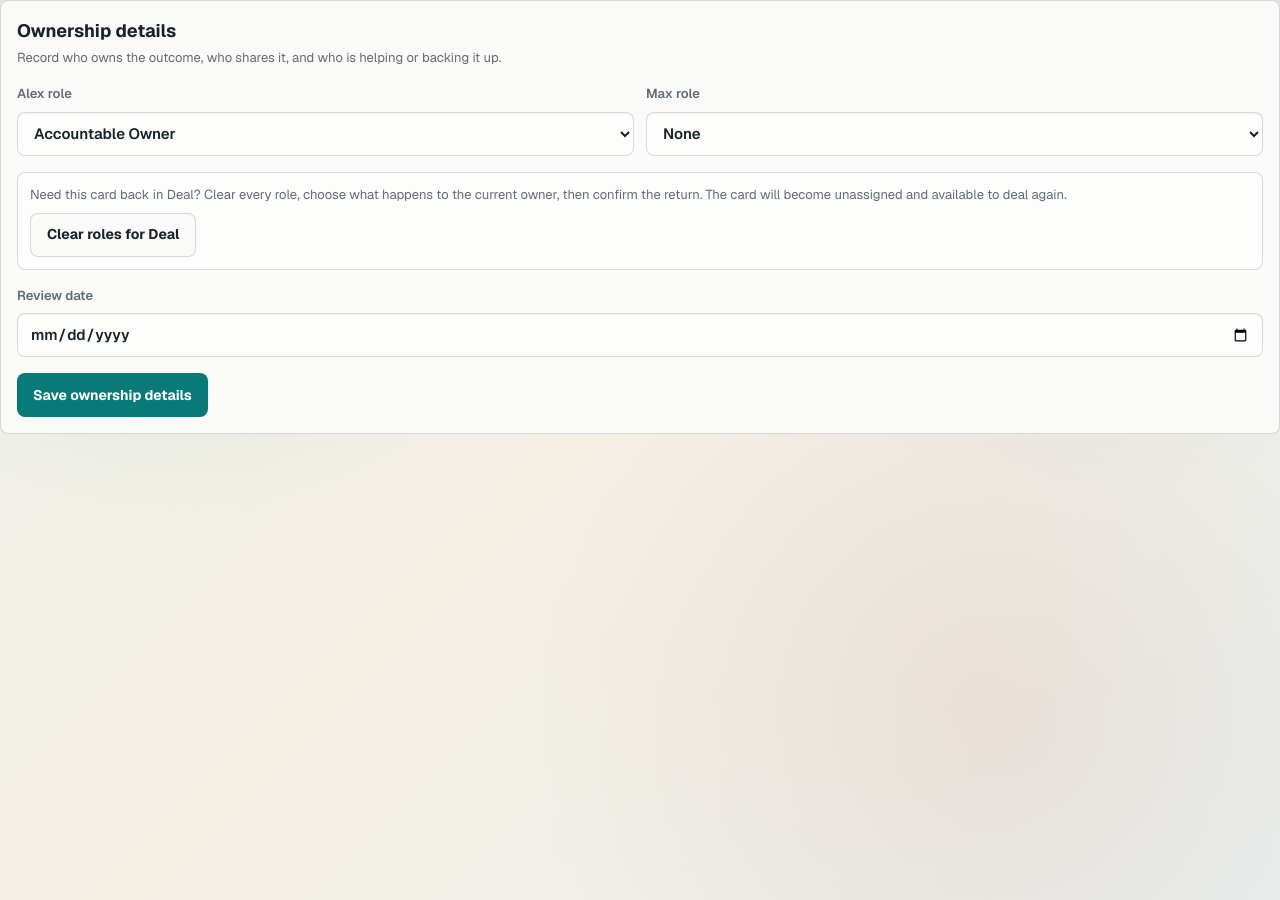
Test case: OwnershipDetails › submits a retain-as-helper handoff with review timing
Select "None" in the dropdown labelled "Alex role" at (326, 134), box [17,112,634,156]
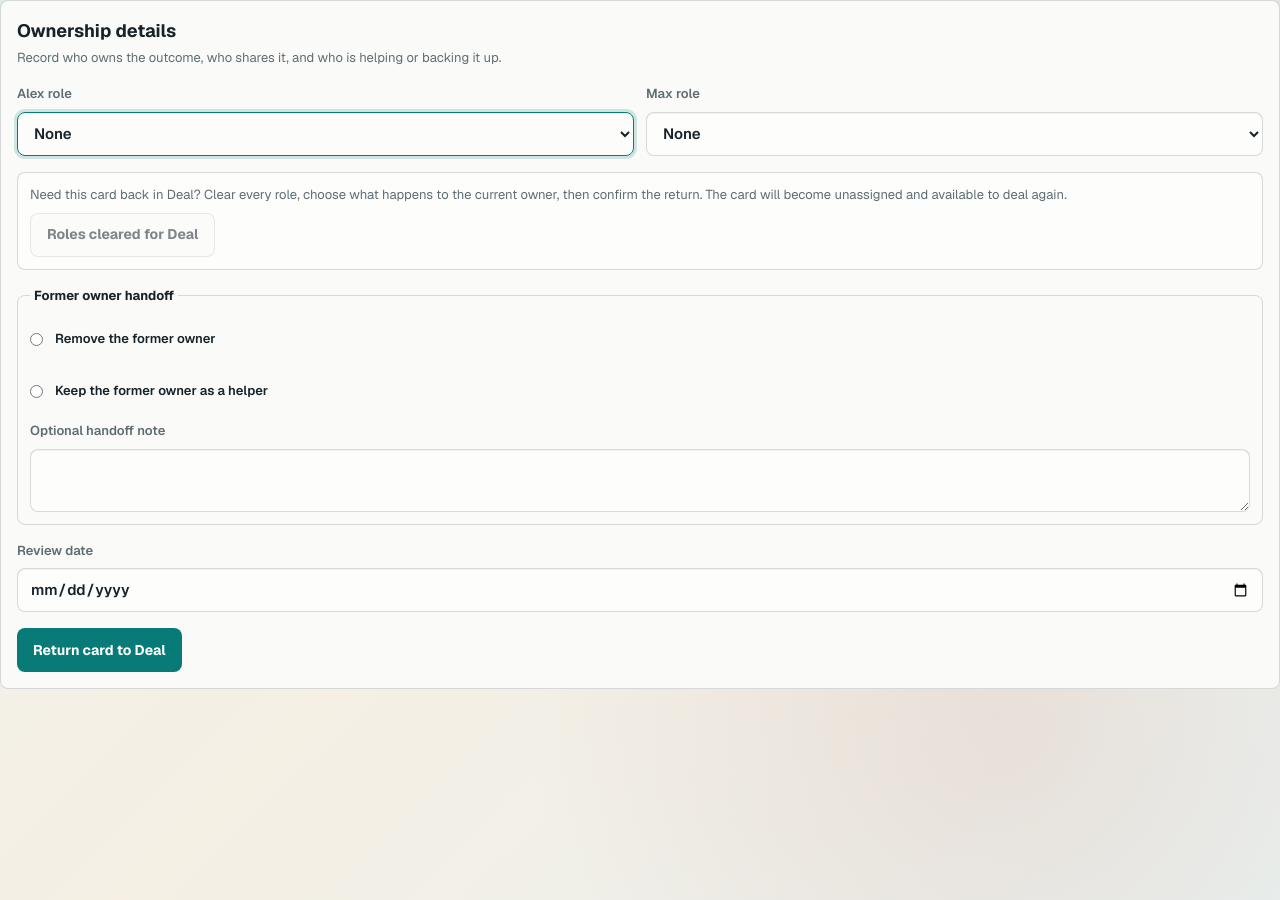
Select "Accountable Owner" in the dropdown labelled "Max role" at (954, 134), box [646,112,1263,156]
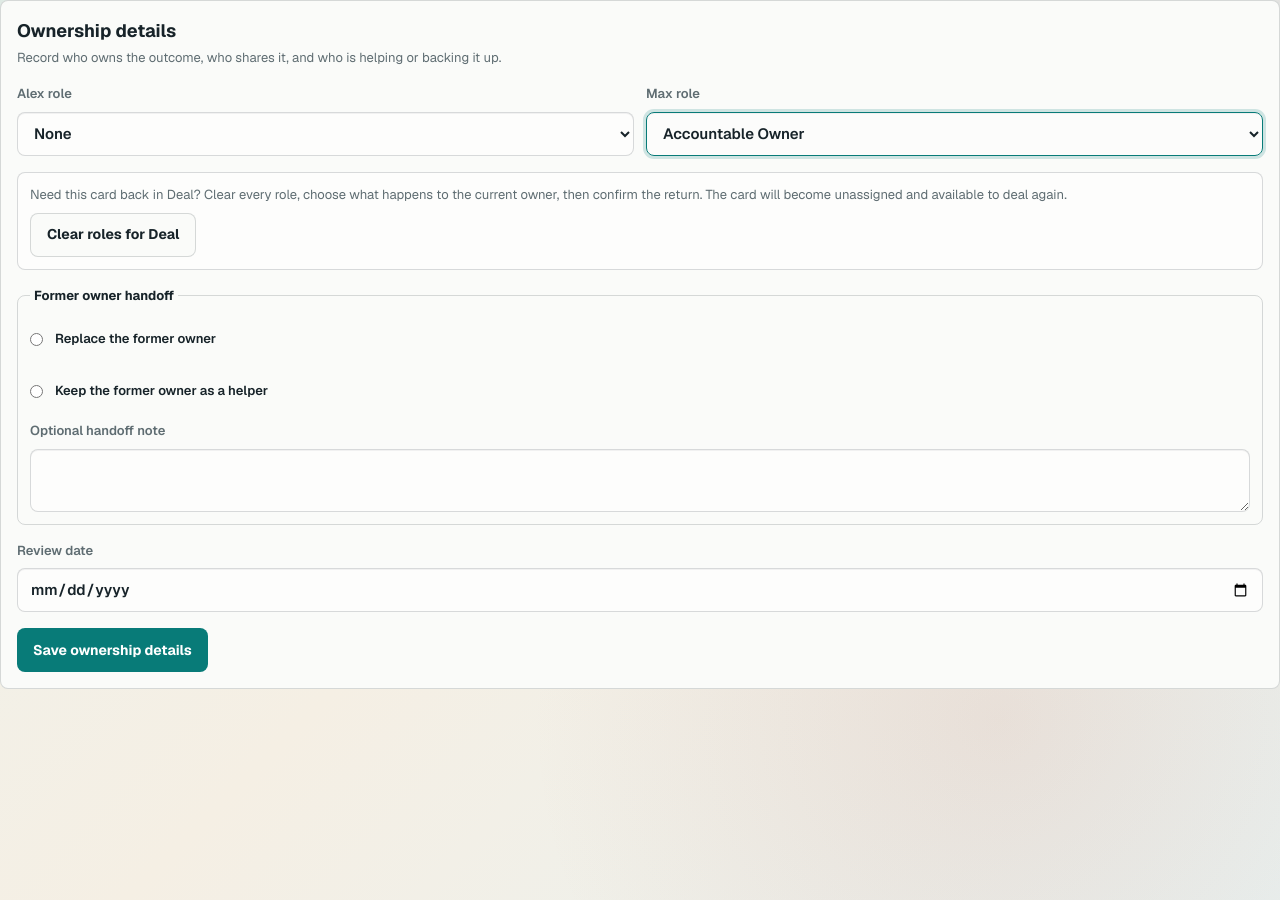
Click the radio button labelled "Keep the former owner as a helper" at (36, 391), box [30,384,43,398]
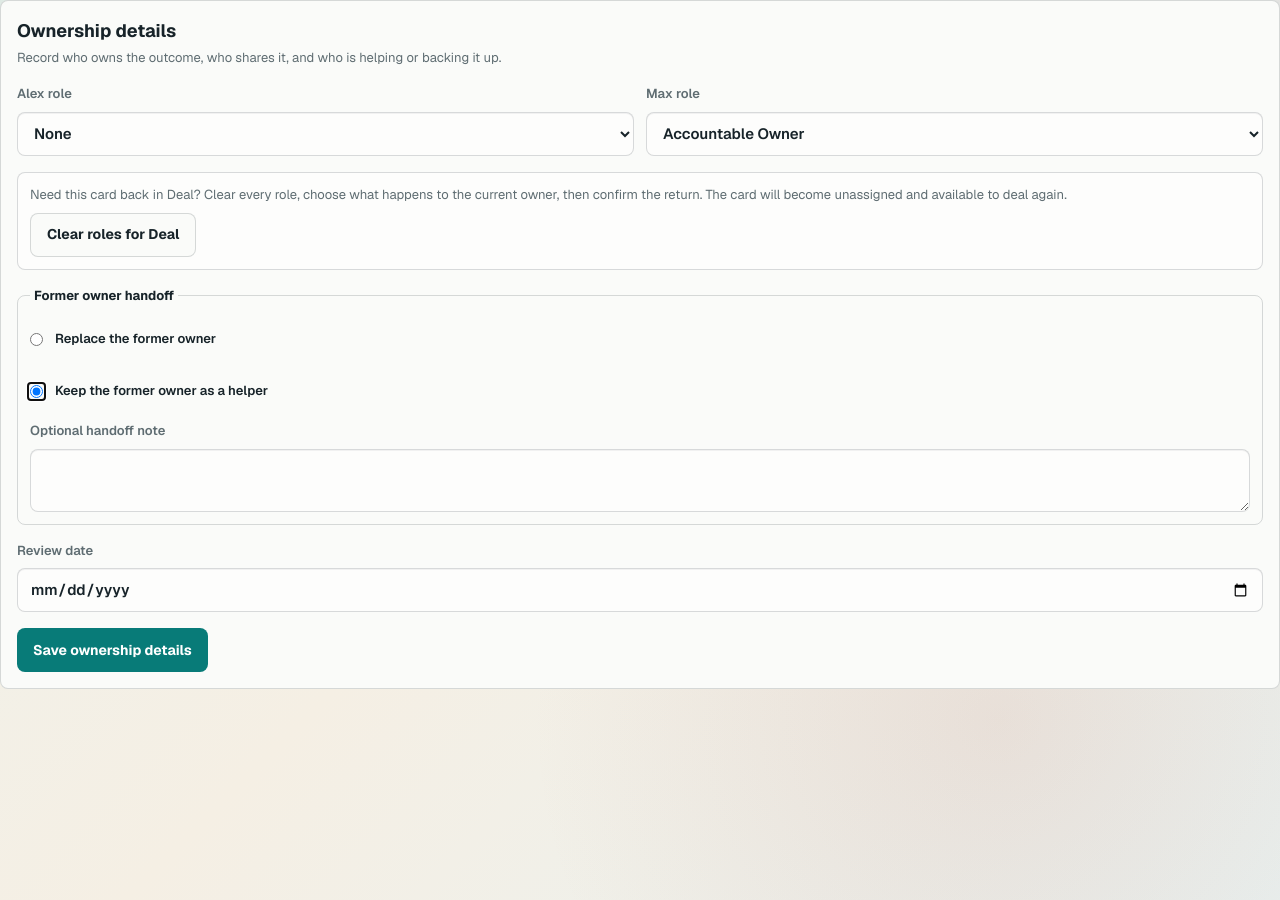
Type "Walk through the routine." into the text box labelled "Optional handoff note" at (640, 480), box [30,448,1250,512]
Type "2026-08-01" into the date field labelled "Review date" at (640, 590), box [17,568,1263,612]
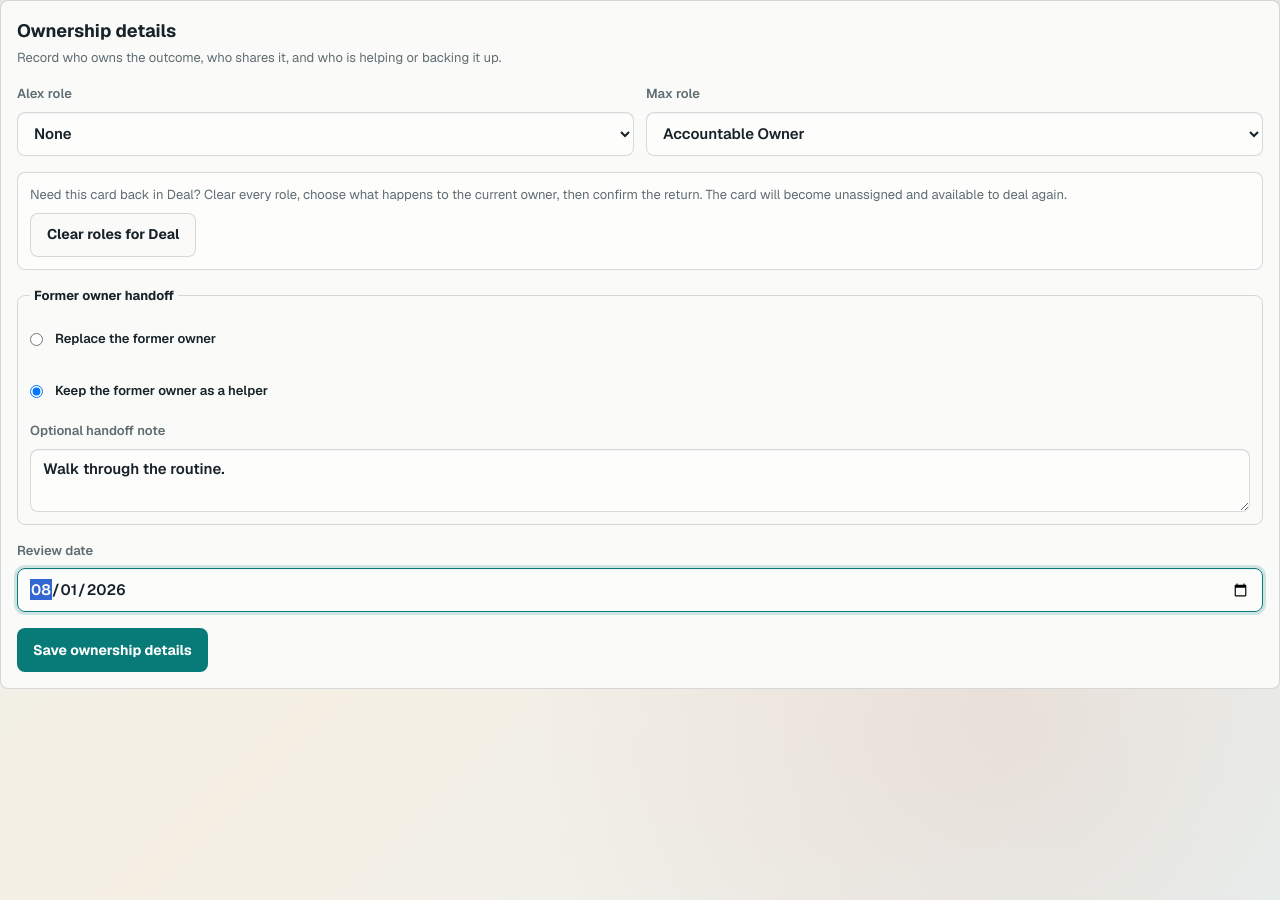
Click the button "Save ownership details" at (112, 650), box [17,628,208,672]
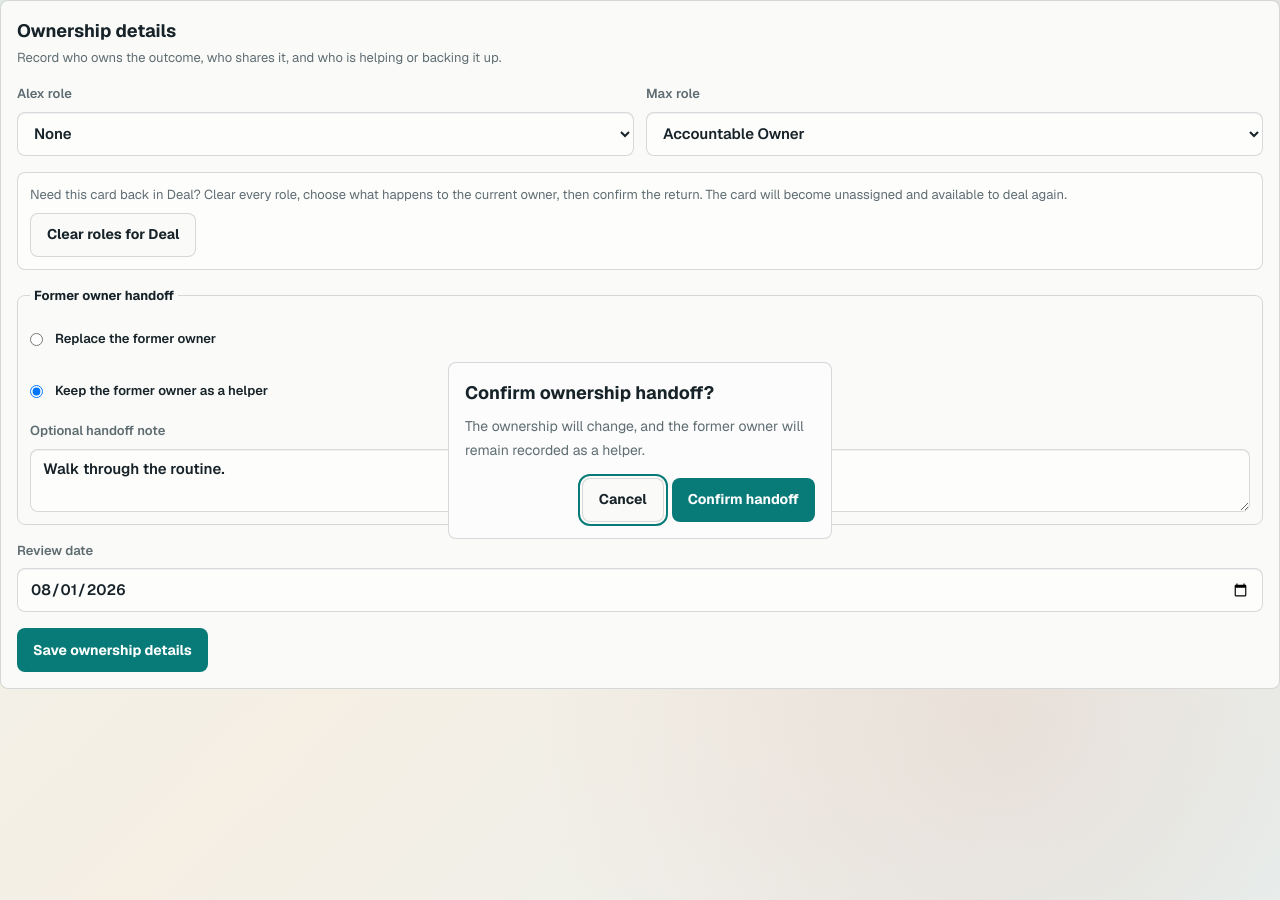
Click the button "Confirm handoff" at (743, 500), box [672,478,815,522]
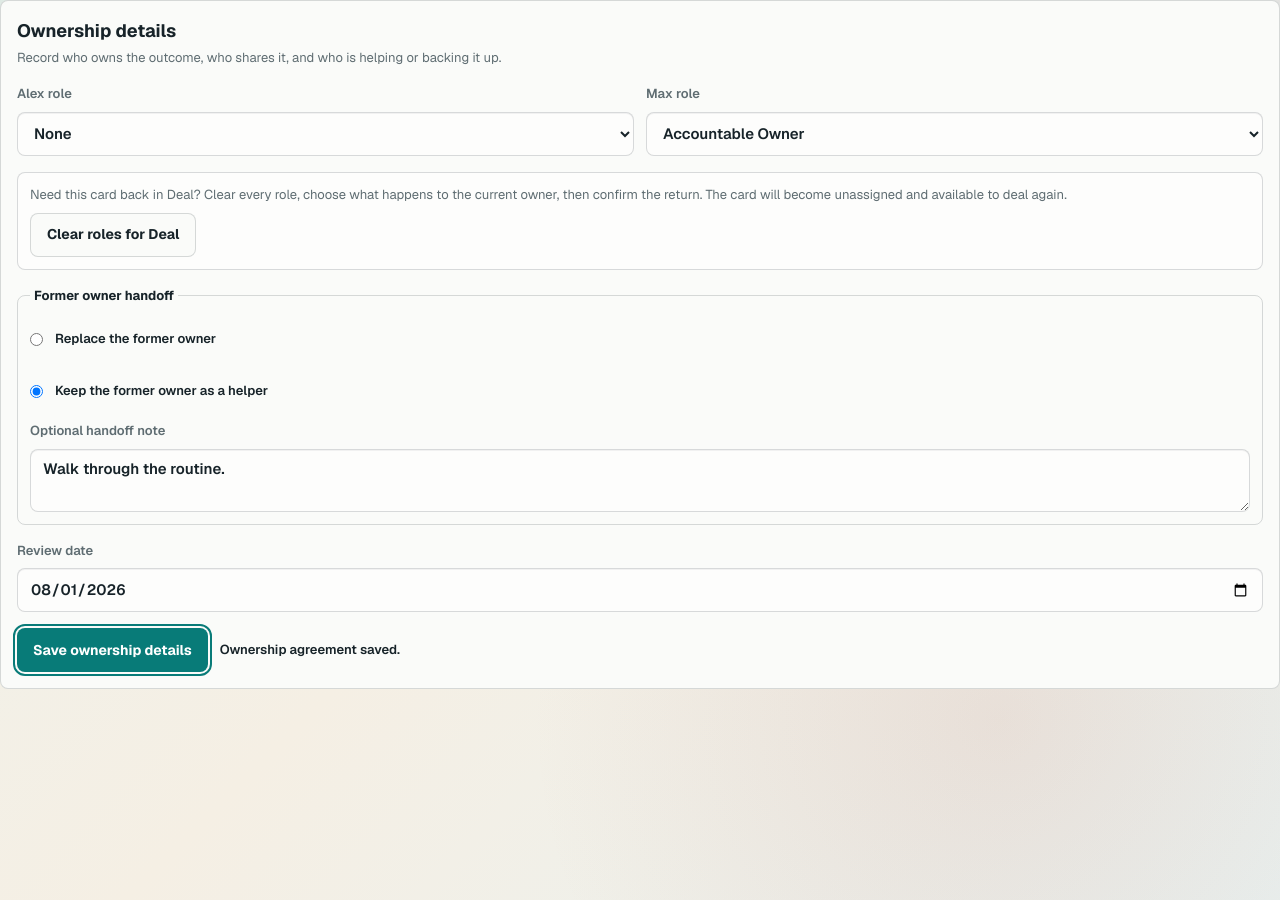
Check: the message reads "Ownership agreement saved.", box [220,641,400,658]
